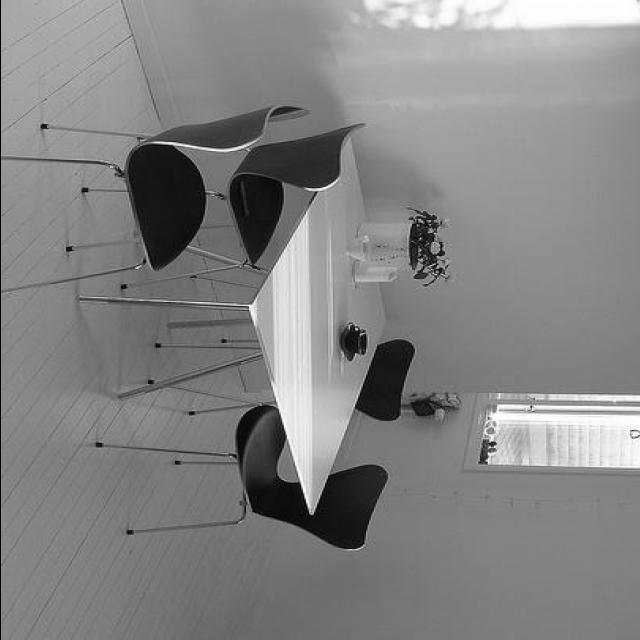chair: (2, 104, 306, 298), (89, 378, 387, 554), (106, 124, 382, 294)
table: (73, 130, 389, 514)
